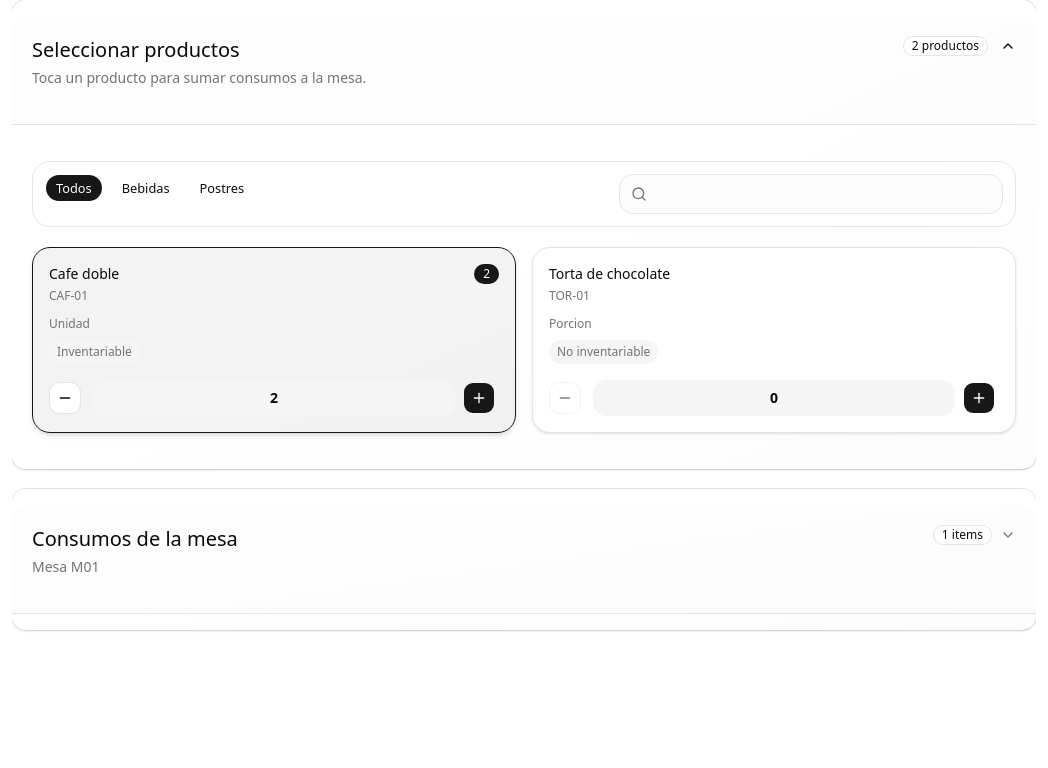
Scenario: TableOrderWorkspace › filters the product grid by category and search
Click the button "Postres": click(222, 188) [189,174,255,202]
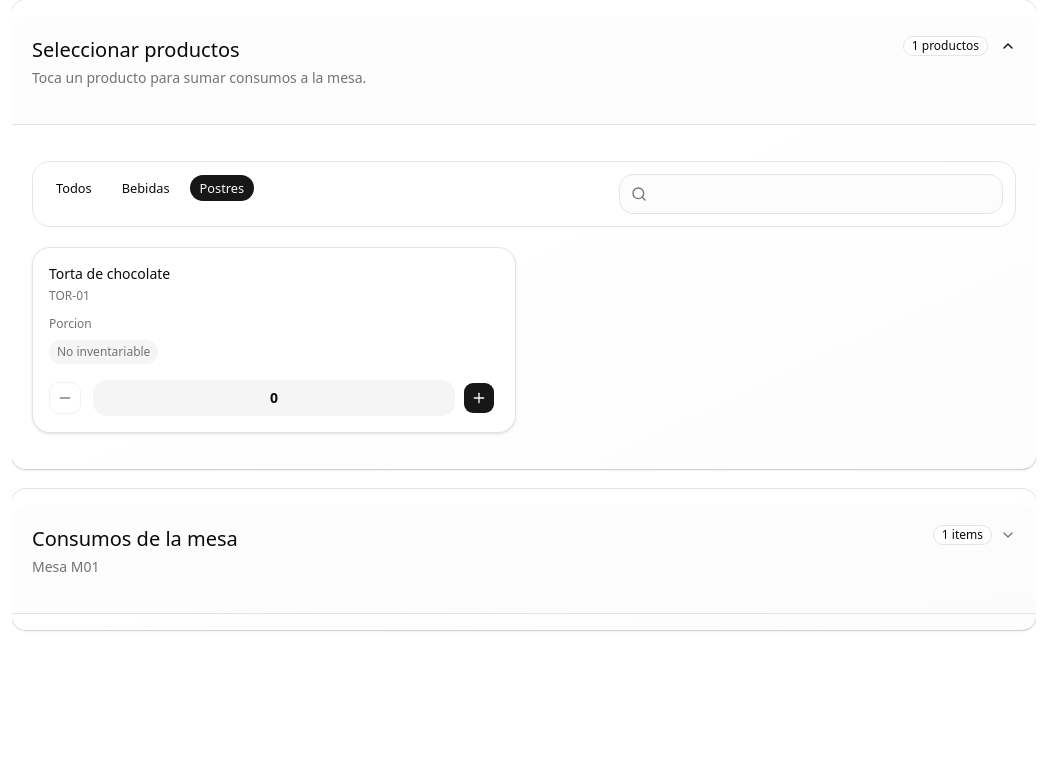
Check: the text "Torta de chocolate" is shown, box [49,264,170,284]
Check: the button "Cafe doble" is gone
In the field named "Buscar productos": (811, 194) [619,174,1003,214], type "sin coincidencias"
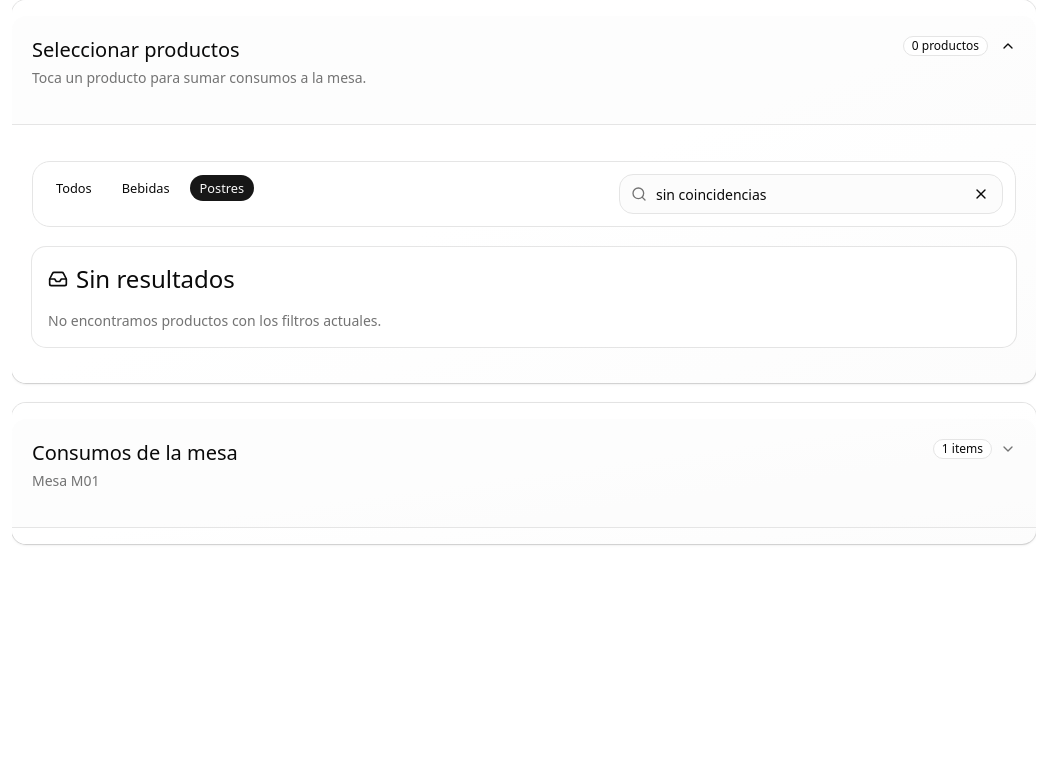
Check: the text "Sin resultados" is shown, box [48,262,235,295]
